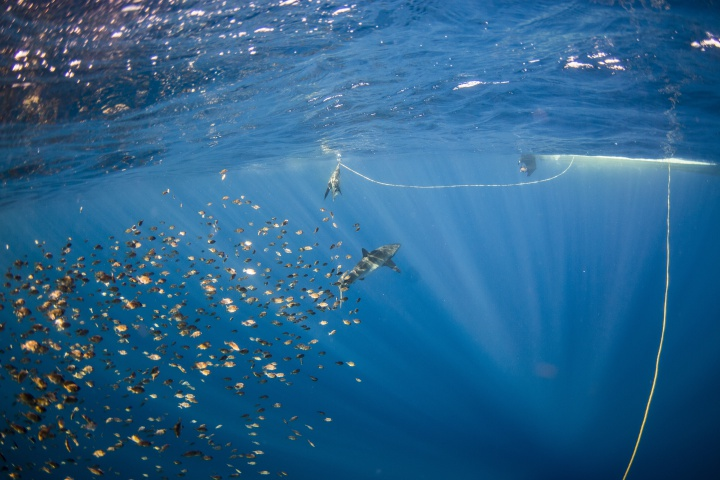Sedoso: (334, 236, 404, 304)
